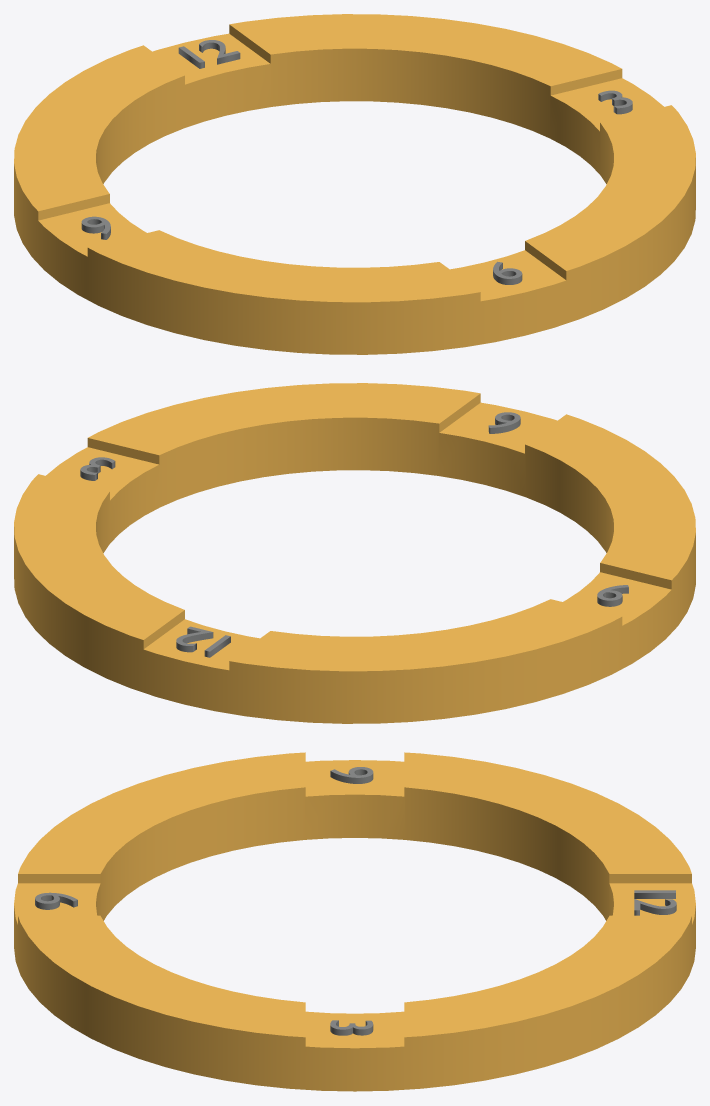
File: compass.glb
The picture shows the model from 3 angles, top to bottom: view 1: azimuth 30°, elevation 25°; view 2: azimuth 150°, elevation 25°; view 3: azimuth 270°, elevation 25°; orthographic projection.
Parts seen in each view (by area): view 1: Cylinder, Cylinder.006, Cylinder.005, Cylinder.004, Cylinder.001, Cylinder.003, Cylinder.002, Text; view 2: Cylinder, Cylinder.006, Cylinder.005, Cylinder.004, Cylinder.002, Cylinder.001, Cylinder.003, Text, Text.003, Text.002; view 3: Cylinder, Cylinder.006, Cylinder.005, Cylinder.002, Cylinder.003, Cylinder.004, Cylinder.001, Text, Text.002, Text.003.
Part boxes in pixels (x1,y1,x2,y2): Cylinder: (14,14,695,302); Cylinder.006: (14,158,695,354); Cylinder.005: (96,48,613,183); Cylinder.004: (450,250,565,301); Cylinder.001: (152,33,270,84); Cylinder.003: (38,203,146,256); Cylinder.002: (551,78,663,131); Text: (178,40,240,68); Cylinder: (14,383,695,671); Cylinder.006: (14,527,695,723); Cylinder.005: (96,417,613,552); Cylinder.004: (439,402,557,453); Cylinder.002: (46,447,158,500); Cylinder.001: (144,619,259,670); Cylinder.003: (563,572,671,625); Text: (176,626,230,657); Text.003: (488,412,520,433); Text.002: (597,585,628,606); Cylinder: (18,752,691,1037); Cylinder.006: (14,906,695,1091); Cylinder.005: (96,787,613,920); Cylinder.002: (305,1011,404,1048); Cylinder.003: (305,760,404,796); Cylinder.004: (14,883,100,924); Cylinder.001: (609,883,695,924); Text: (634,890,676,915); Text.002: (330,767,373,783); Text.003: (35,892,77,909).
Size of the model in its own units: 2 by 0.17 by 2.
